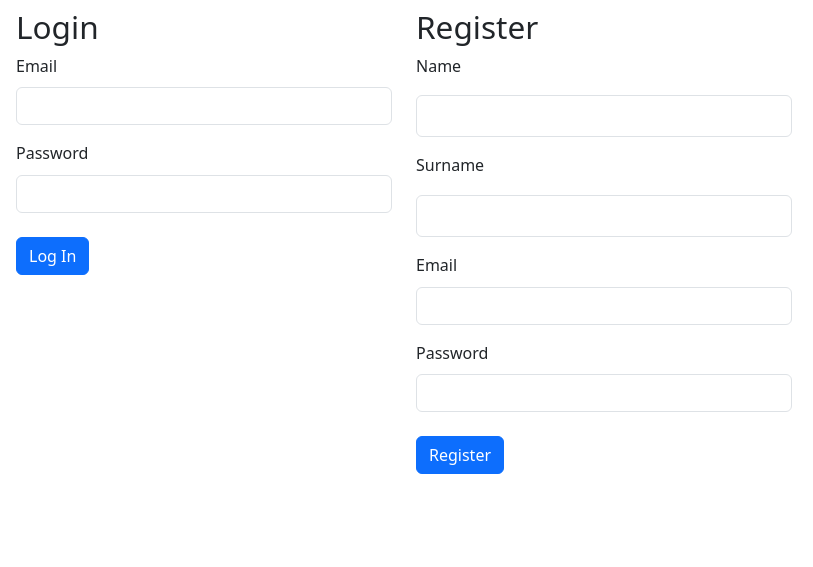
Scenario: Auth Page Tests › Registration Tests › should show error for server issues
This screenshot has width=813, height=567.
In the field with test id "name-input": (604, 117) [416, 96, 792, 138], type "string"
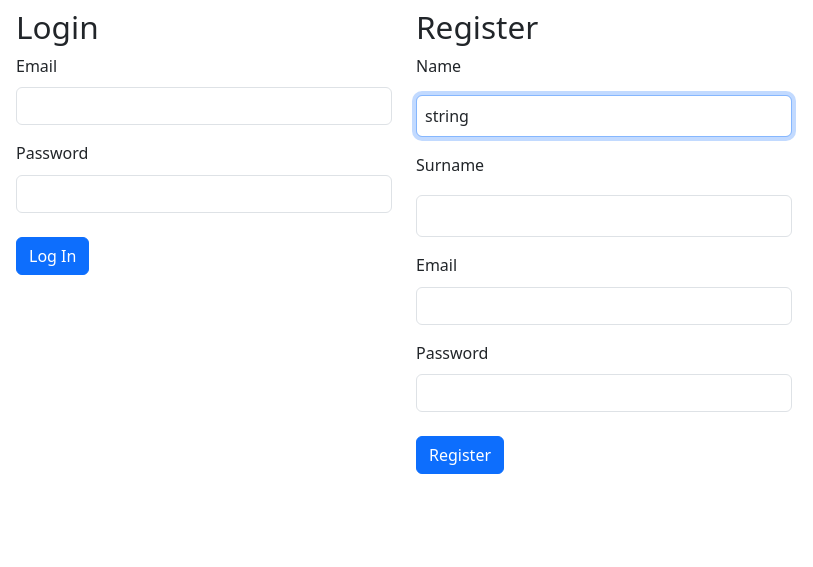
In the field with test id "surname-input": (604, 216) [416, 195, 792, 237], type "string"
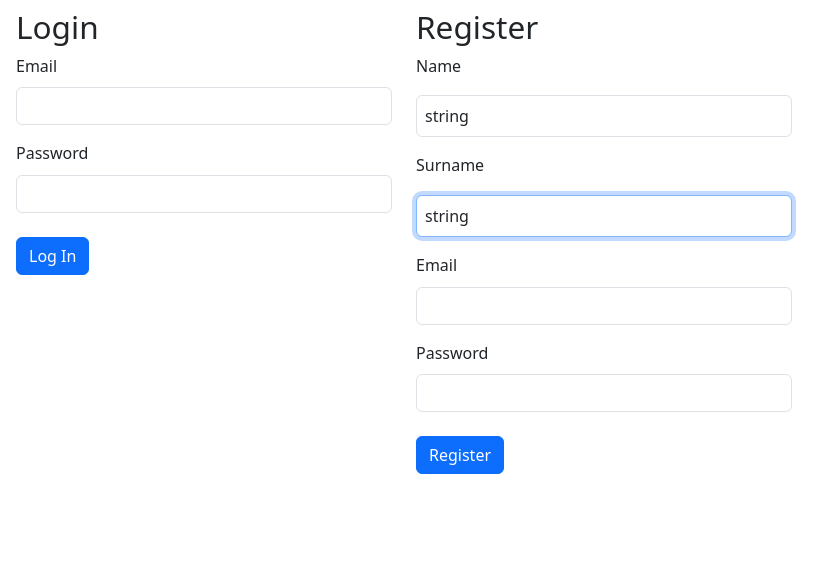
In the field with test id "email-input": (604, 306) [416, 287, 792, 325], type "user@example.com"
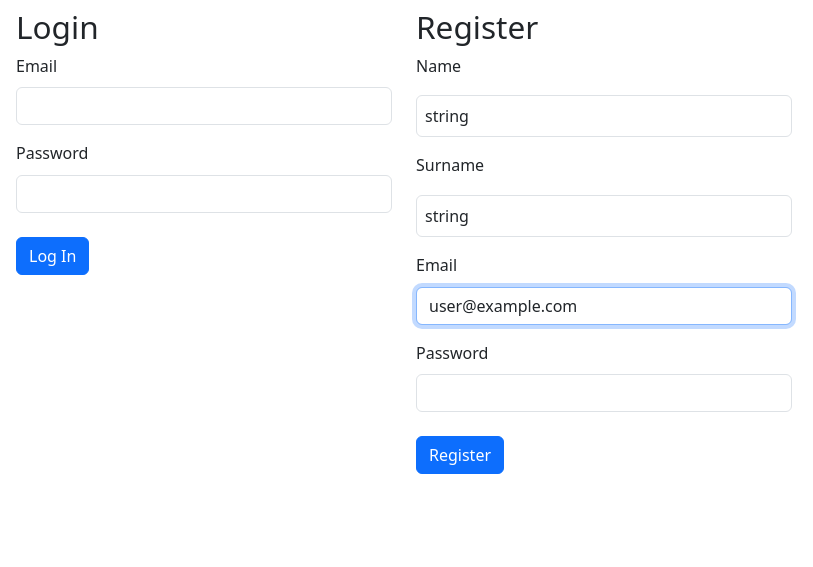
In the password field with test id "password-input": (604, 393) [416, 374, 792, 412], type "string"
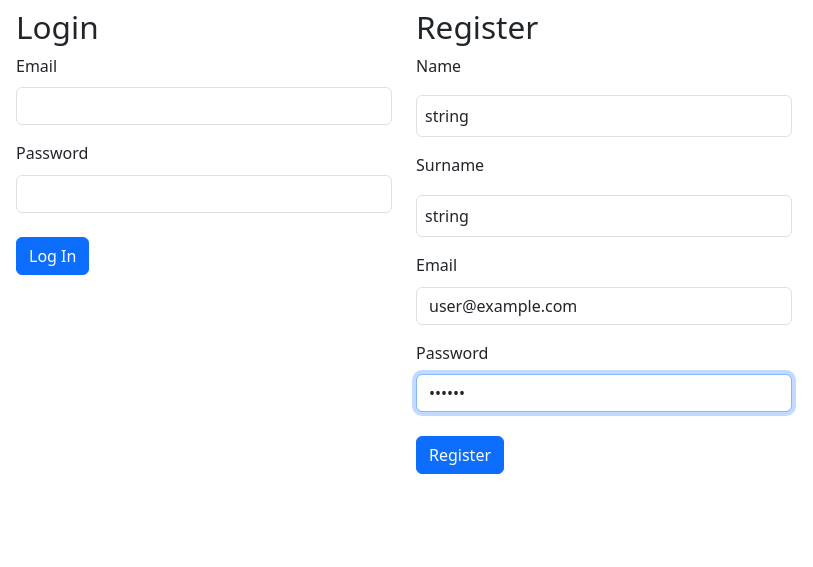
Click the button with test id "submit-button": (460, 455) [416, 436, 504, 474]
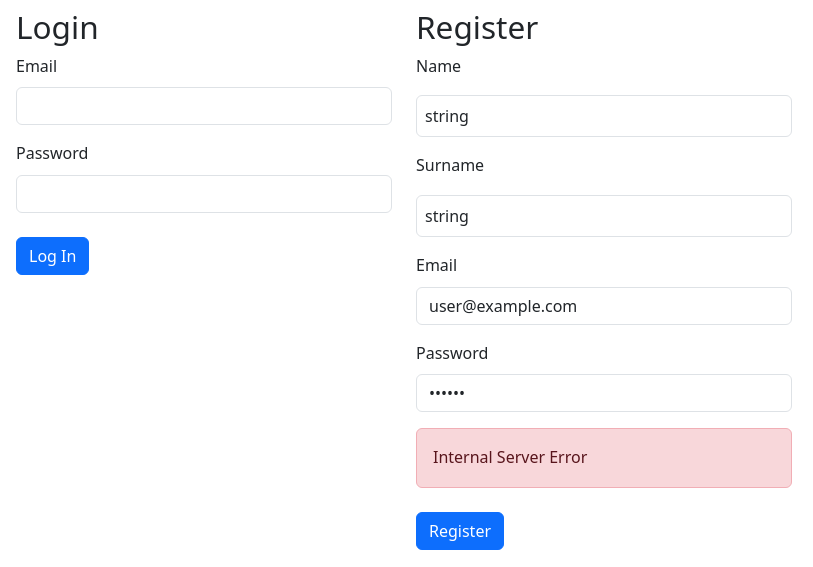
Expected: the text "Internal Server Error" is shown, [416, 428, 792, 488]
Expected: the text with test id "error-message" reads "Internal Server Error", [433, 446, 587, 468]
